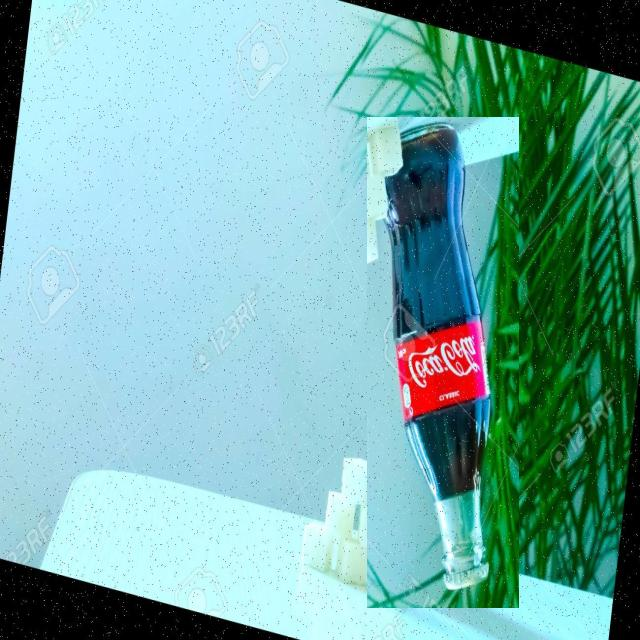coca-cola: (367, 117, 519, 608)
